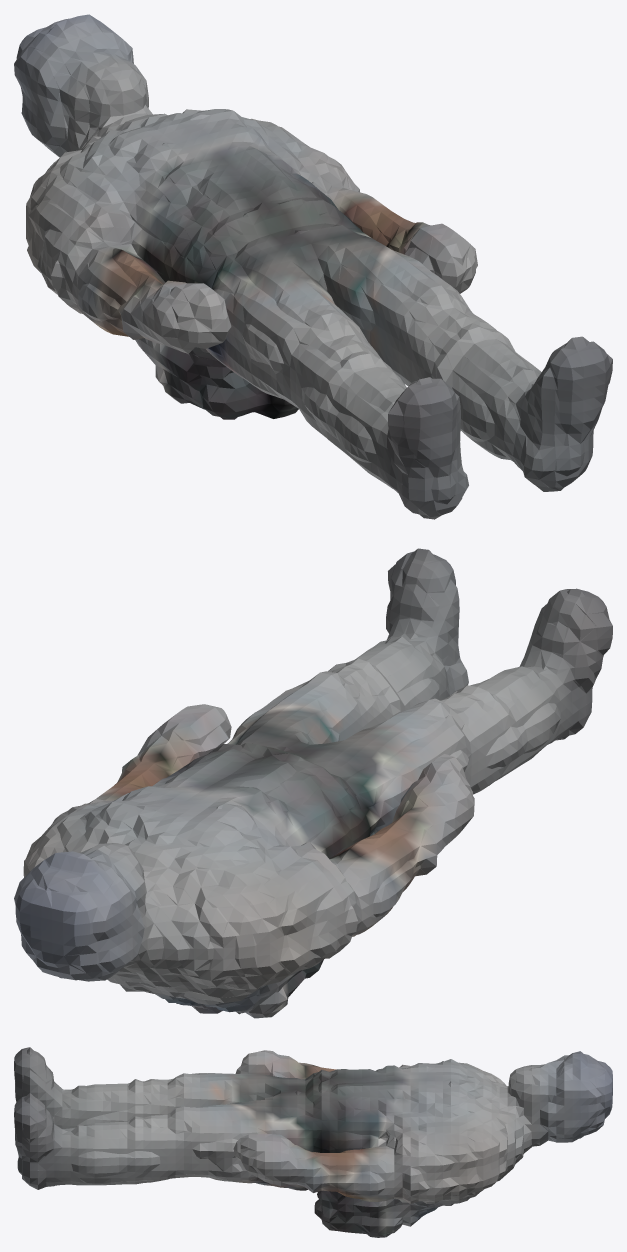
File: worker_3d.glb
3 views of the same model, one above another, from view 1: azimuth 30°, elevation 25°; view 2: azimuth 150°, elevation 25°; view 3: azimuth 270°, elevation 25° (orthographic). The views are drawn at different scales.
Visible parts, largest first — view 1: geometry_0; view 2: geometry_0; view 3: geometry_0.
Part boxes in pixels (x1,y1,x2,y2): geometry_0: (14,14,612,519); geometry_0: (14,548,612,1018); geometry_0: (14,1047,612,1237).
Size of the model in its own units: 0.3966 by 0.3266 by 1.01.
